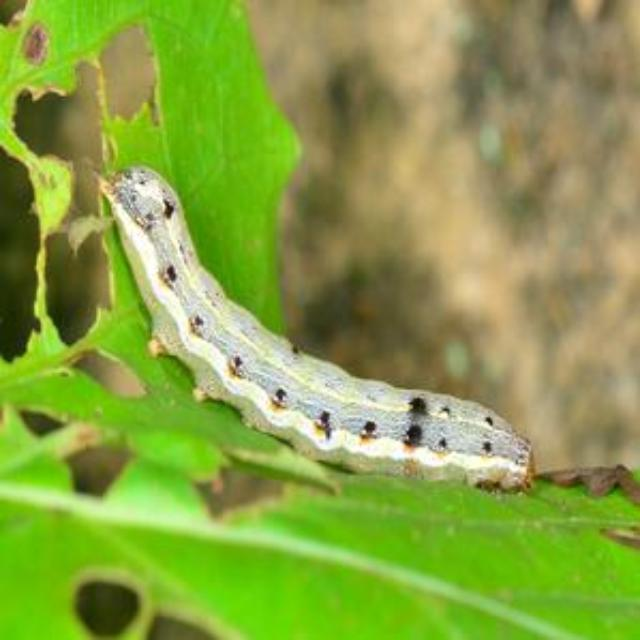Tobacco cutworm: (62, 138, 546, 552)
